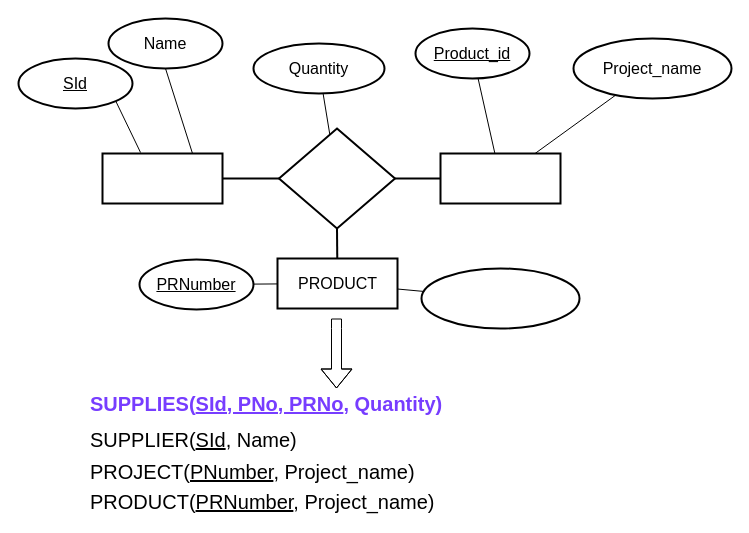
Image size: 749x533. Some labels were removed from this diagram. Here are the shapes that lost their labels. From the top down, the centre of each, then its label:
At (162,178): "SUPPLIER".
At (337,178): "SUPPLIES".
At (500,178): "PROJECT".
At (500,298): "Product_name".
